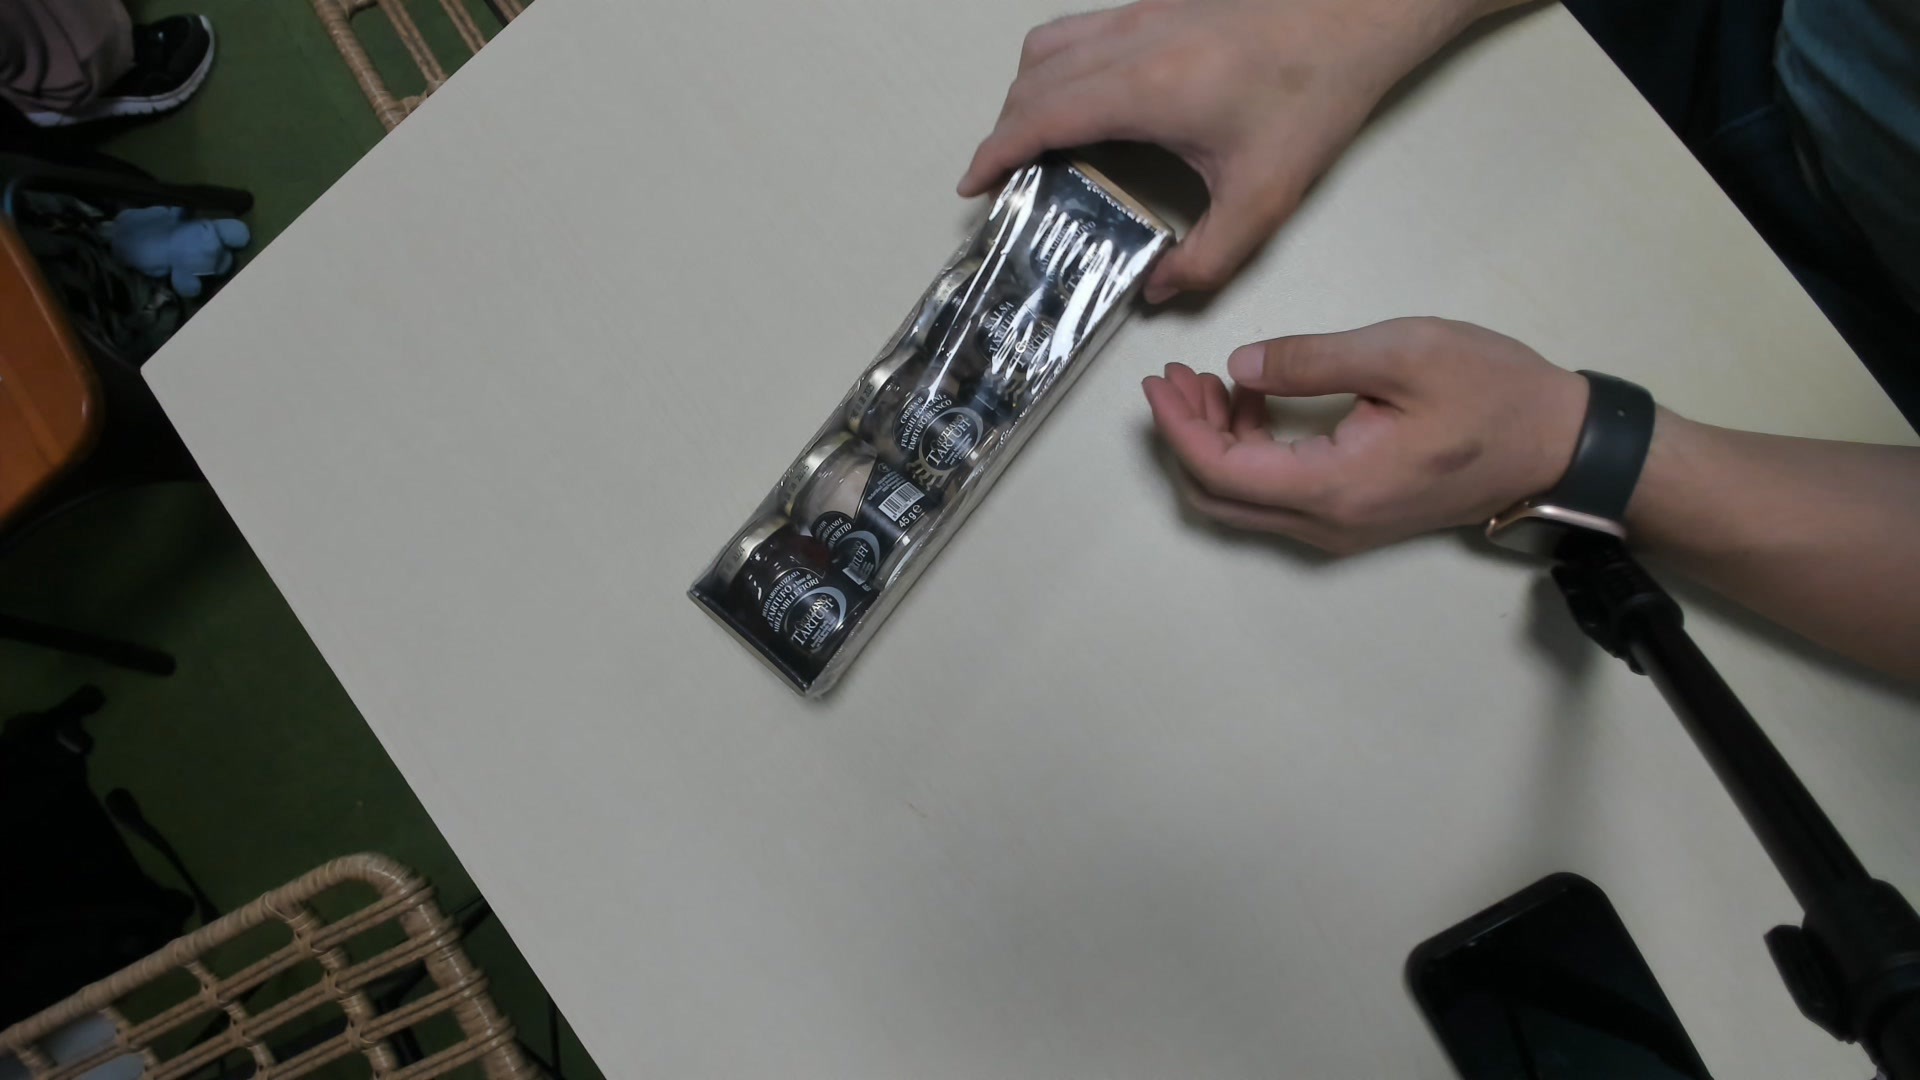OtherSauceDressing_500-599g_NonHalal_NonHealthy: (699, 127, 1184, 727)
